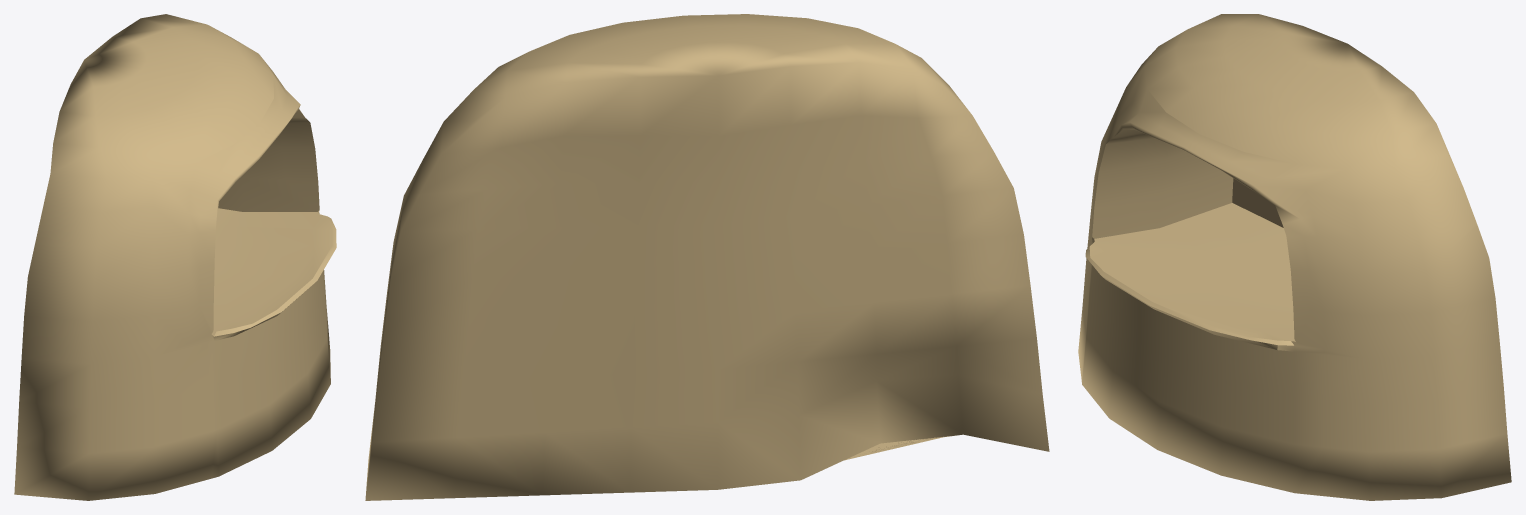
File: oven.fbx
3 views of the same model, side by side, from view 1: azimuth 30°, elevation 25°; view 2: azimuth 150°, elevation 25°; view 3: azimuth 270°, elevation 25° (orthographic). The views are drawn at different scales.
Visible parts, largest first — view 1: Oven; view 2: Oven; view 3: Oven.
Boxes of the visible parts, bbox=[...] form: Oven: bbox=[14, 14, 336, 500]; Oven: bbox=[365, 14, 1049, 500]; Oven: bbox=[1078, 14, 1511, 500].
Bounding box in the file's own units: 508 × 394 × 458.
